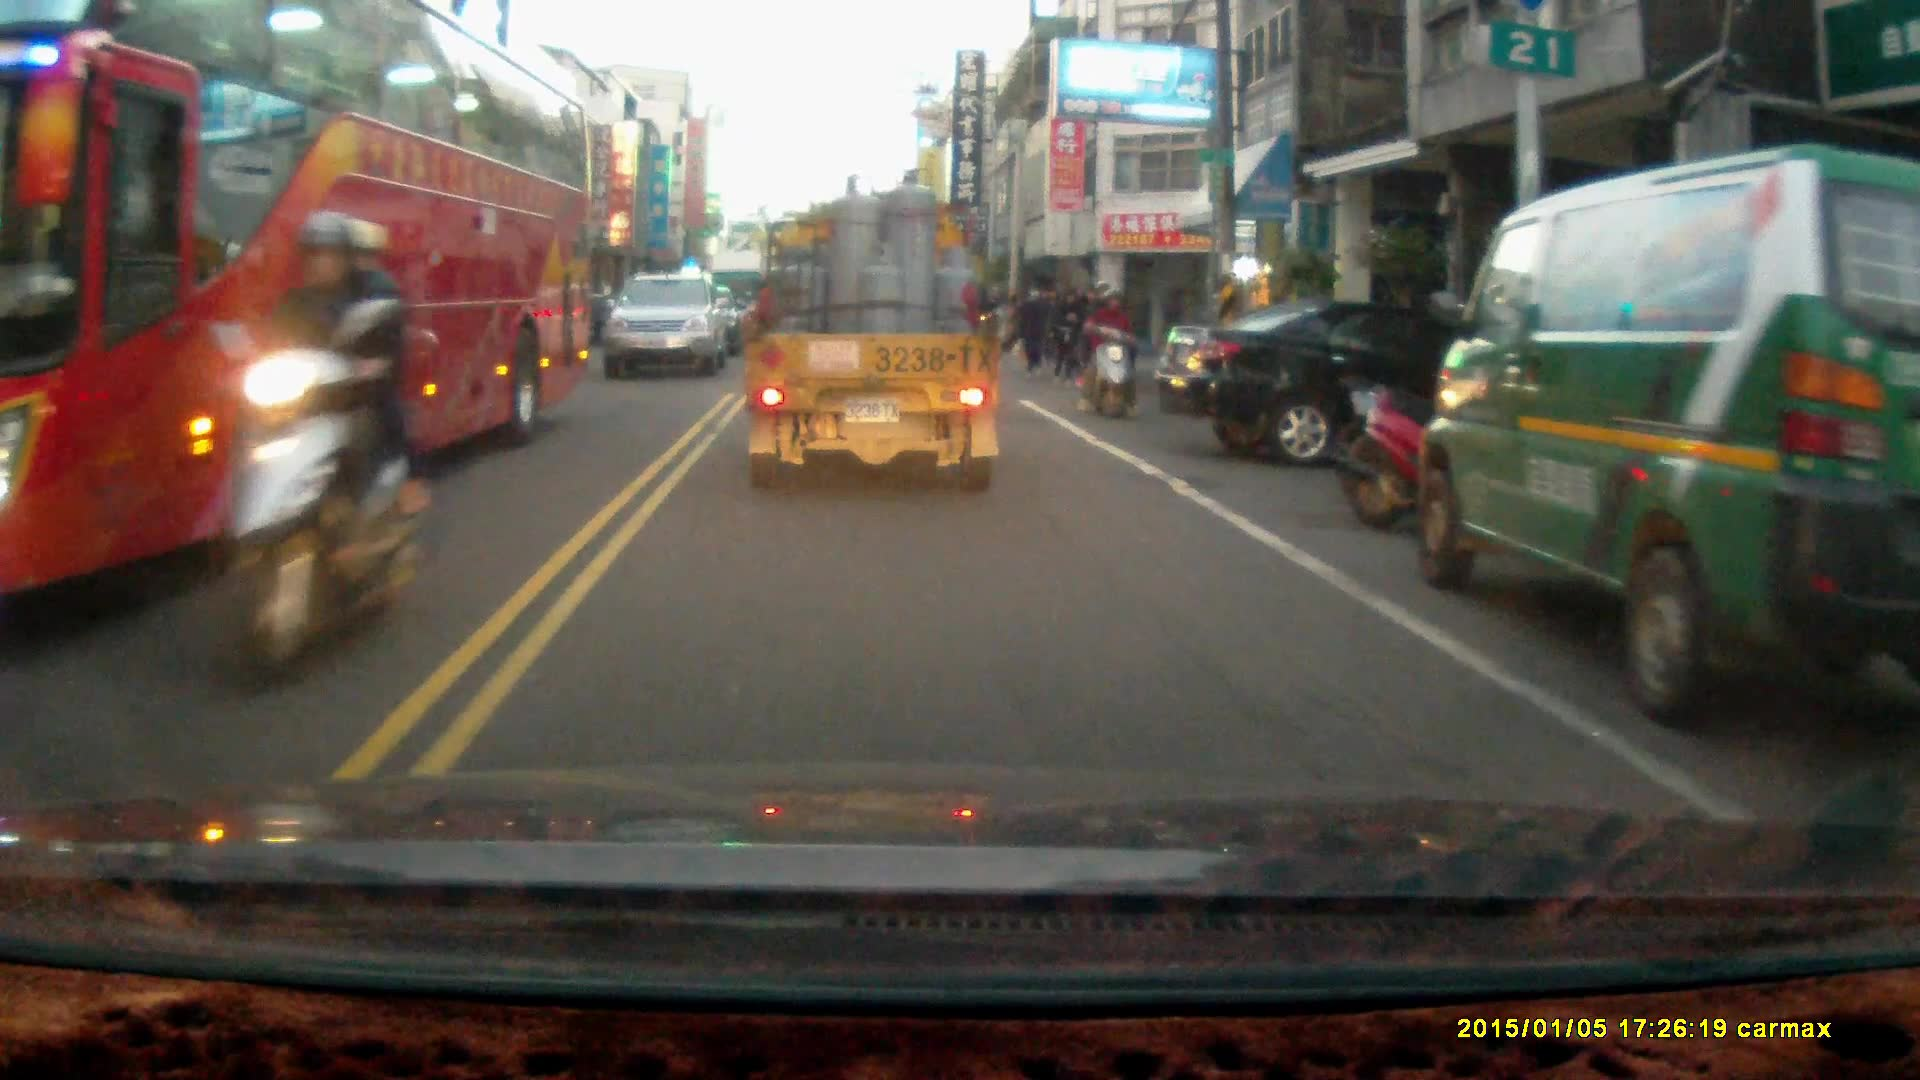pedestrian: (1052, 286, 1085, 385), (1018, 286, 1052, 371)
rider: (198, 209, 430, 694), (1082, 277, 1144, 423)
vehicle: (1, 7, 604, 615), (1418, 139, 1920, 730), (743, 168, 1006, 492), (1167, 299, 1507, 472), (605, 273, 732, 381)
